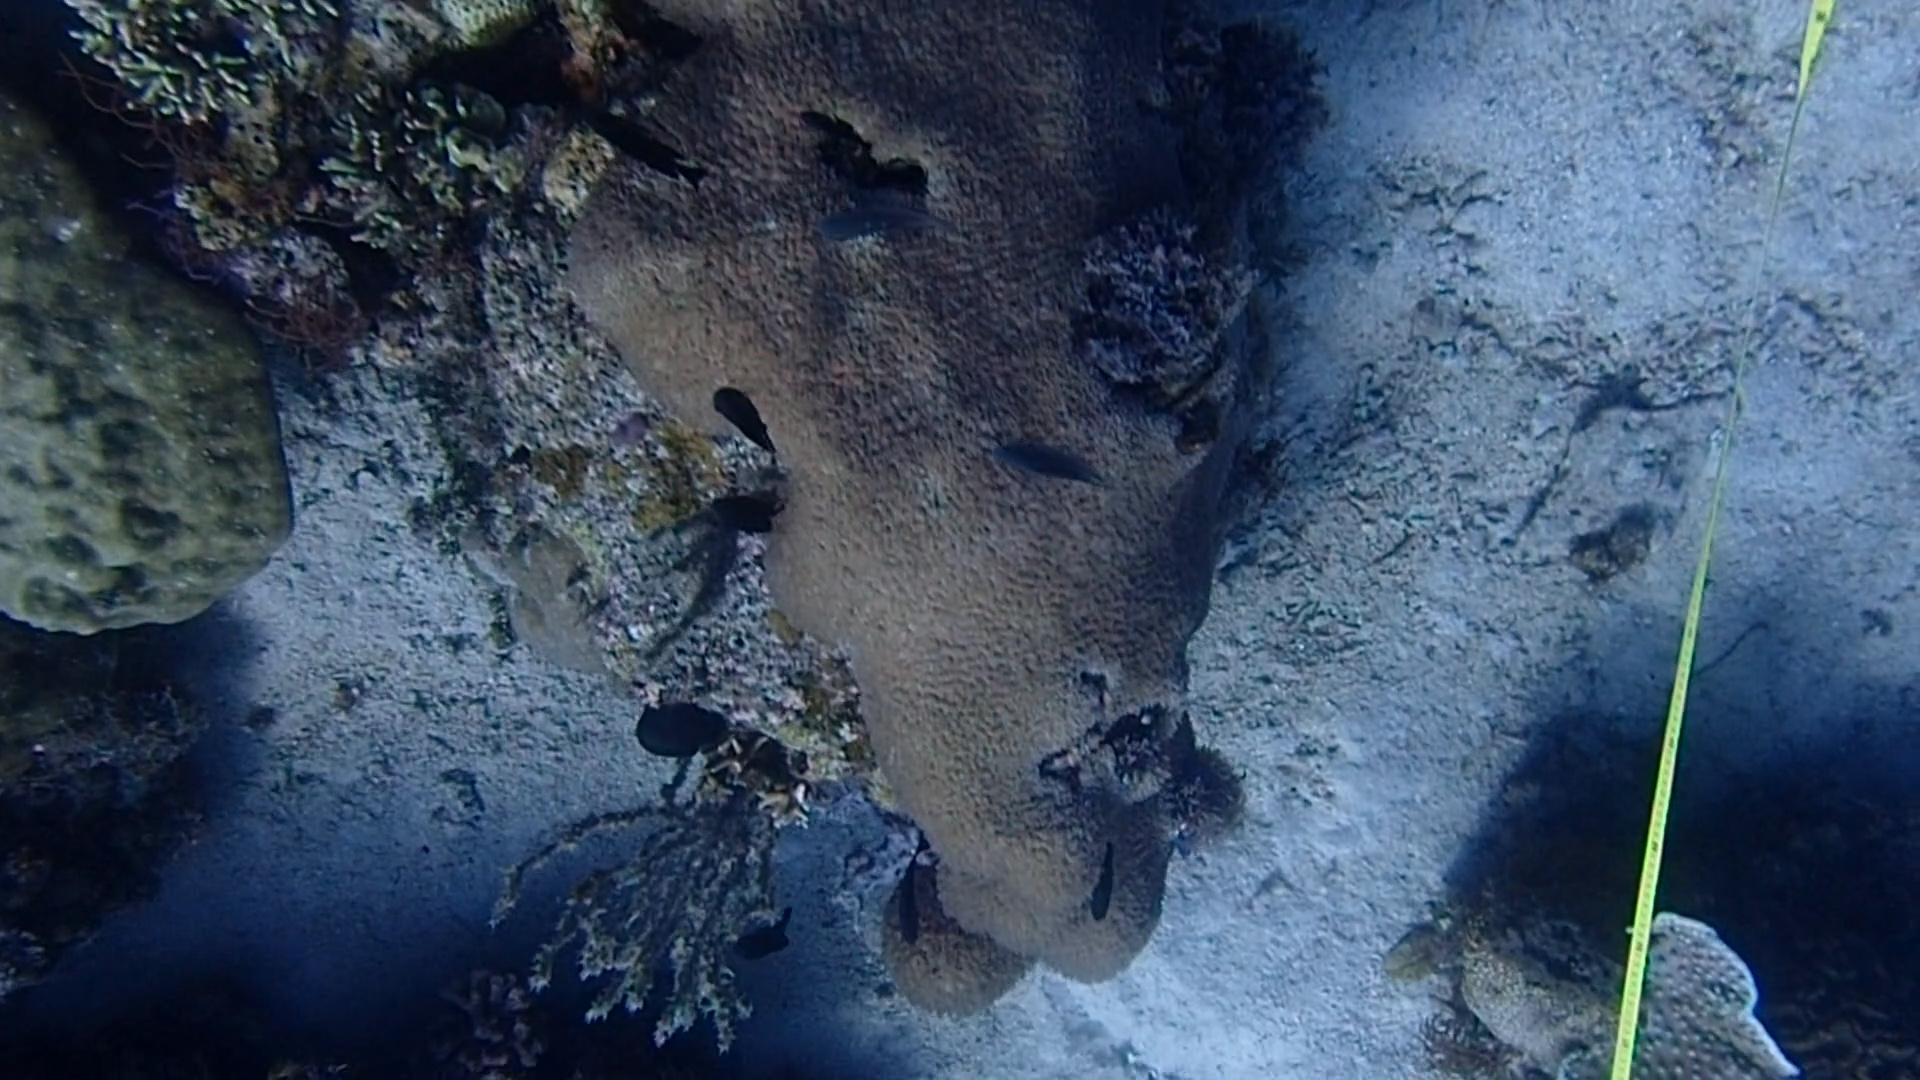Dark Fish: (555, 90, 717, 193), (690, 485, 806, 553), (720, 889, 808, 969), (704, 375, 781, 462), (882, 844, 942, 955), (1077, 835, 1139, 939)
Light Fish: (799, 175, 963, 265), (978, 410, 1117, 514)
